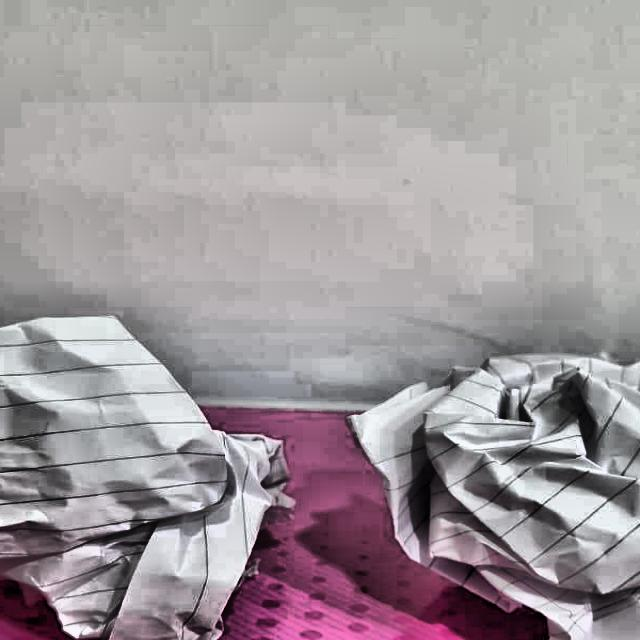paper: (0, 315, 291, 640), (371, 325, 640, 640)
